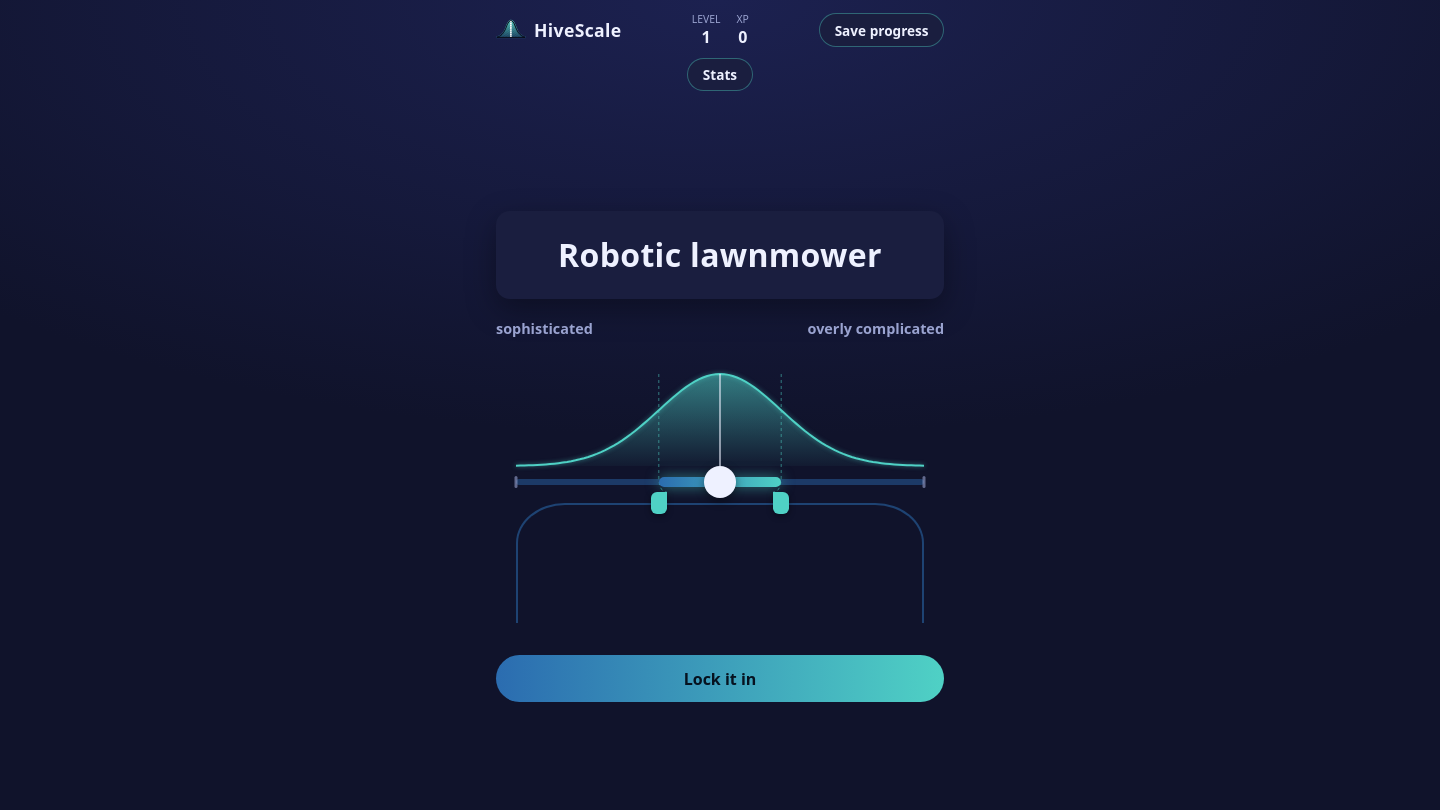
Scenario: PlayScreen › pops a level-up explainer when a round crosses an unlock milestone
The image size is (1440, 810).
Click the button "Lock it in": (720, 679) x1=496 y1=655 x2=944 y2=702
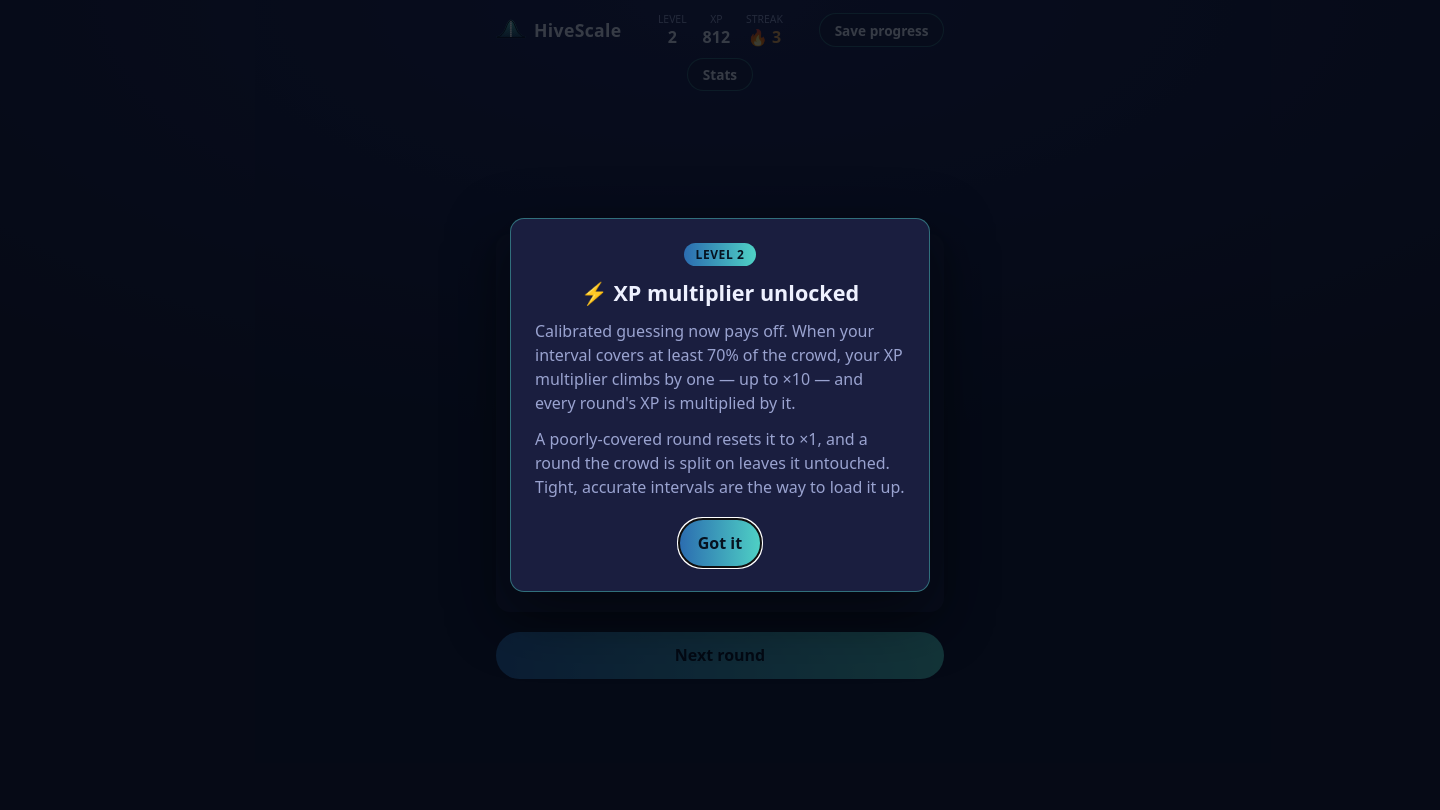
Click the button "Got it": (720, 543) x1=679 y1=519 x2=761 y2=567
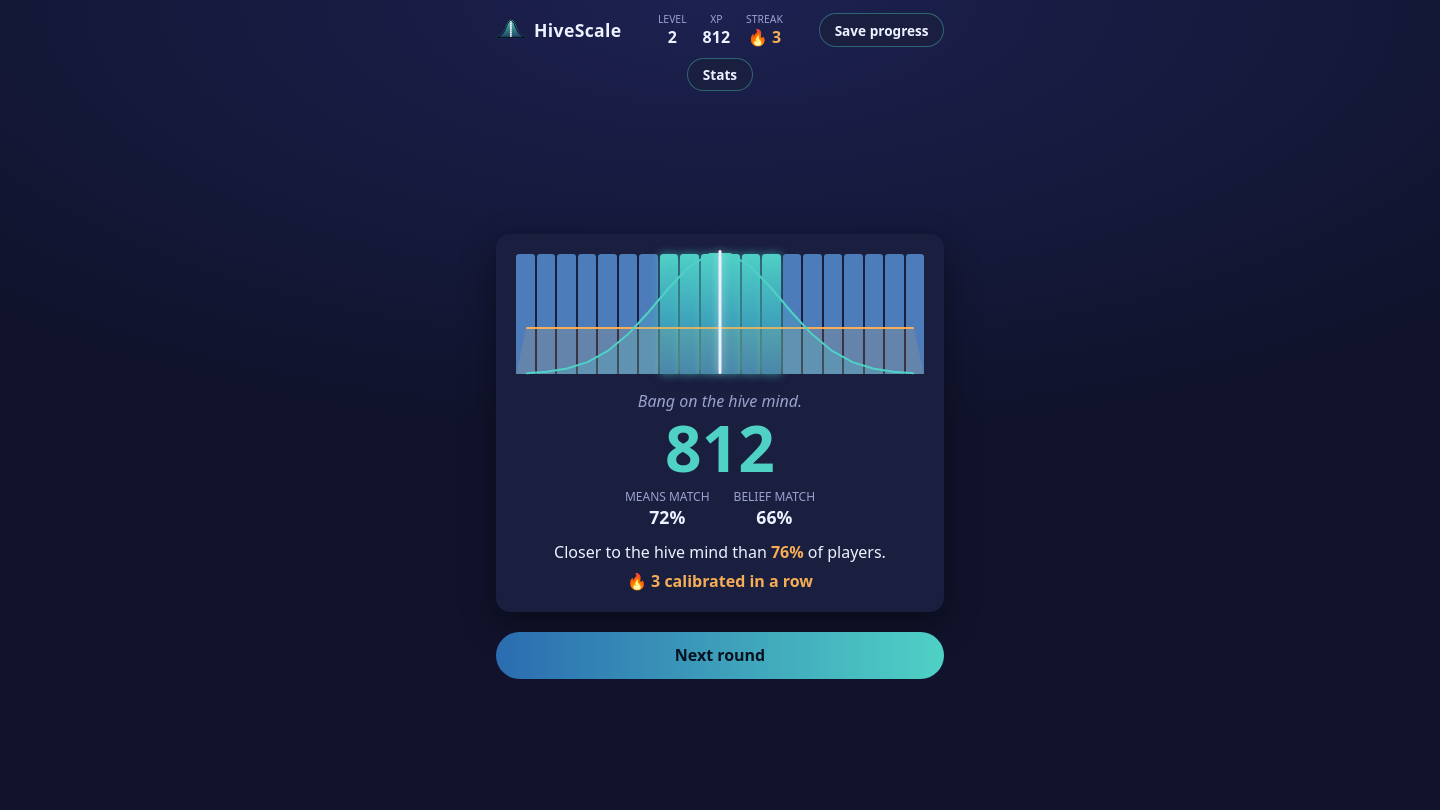
Expected: the dialog is gone
